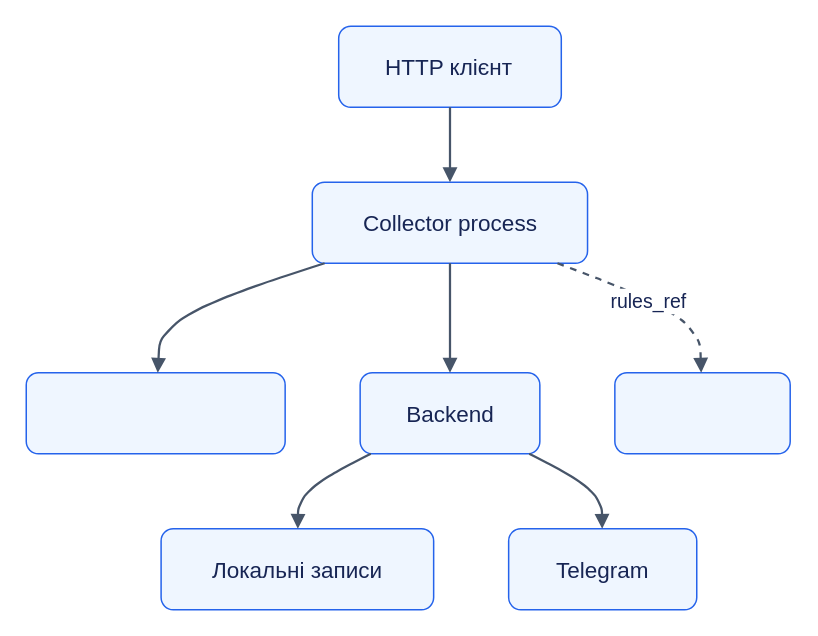
This 818x636 diagram has some shape labels left out. Here are the shapes that lost their labels. From the top down, the centre of each, then its label:
At point (155, 412): "Власний SQLite".
At point (701, 412): "Registry".
